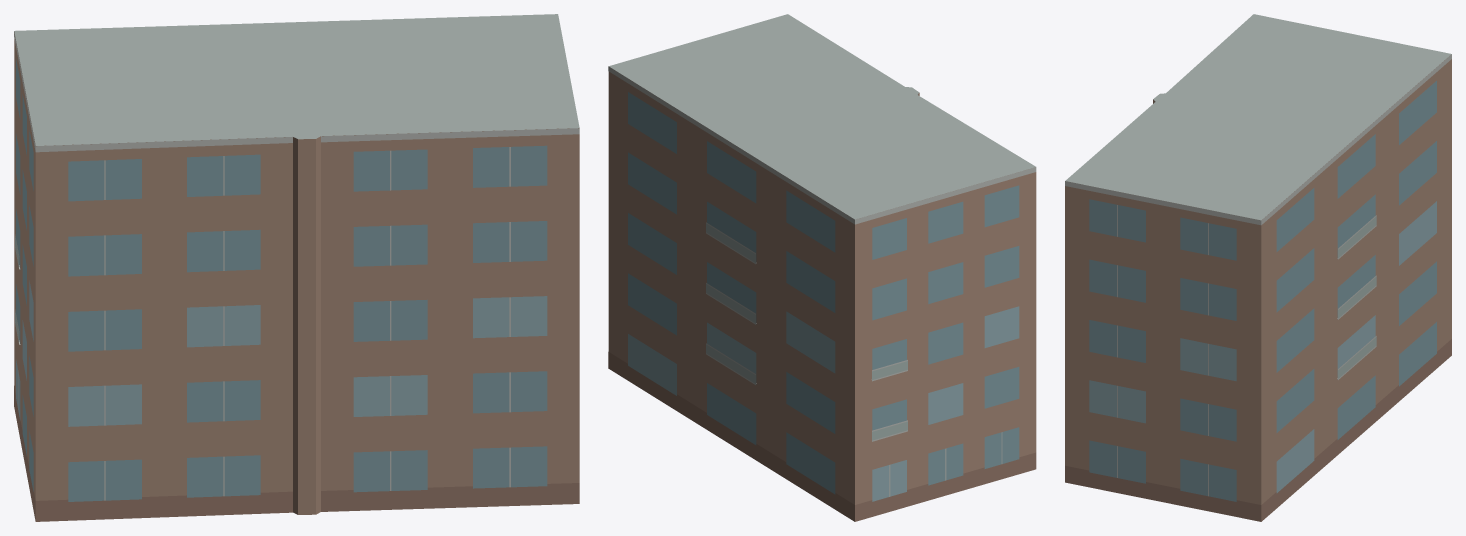
Rendered from survey-upis-32552900.glb.
3 renders of one model, left to right at view 1: azimuth 30°, elevation 25°; view 2: azimuth 150°, elevation 25°; view 3: azimuth 270°, elevation 25°, orthographic. The views are drawn at different scales.
Parts seen in each view (by area): view 1: survey-upis-32552900.tmp; view 2: survey-upis-32552900.tmp; view 3: survey-upis-32552900.tmp.
Boxes of the visible parts, x1,y1,x2,y2 form: survey-upis-32552900.tmp: (14, 14, 579, 521); survey-upis-32552900.tmp: (608, 14, 1036, 521); survey-upis-32552900.tmp: (1065, 14, 1451, 521).
Size of the model in its own units: 21.73 by 14.8 by 17.21.
